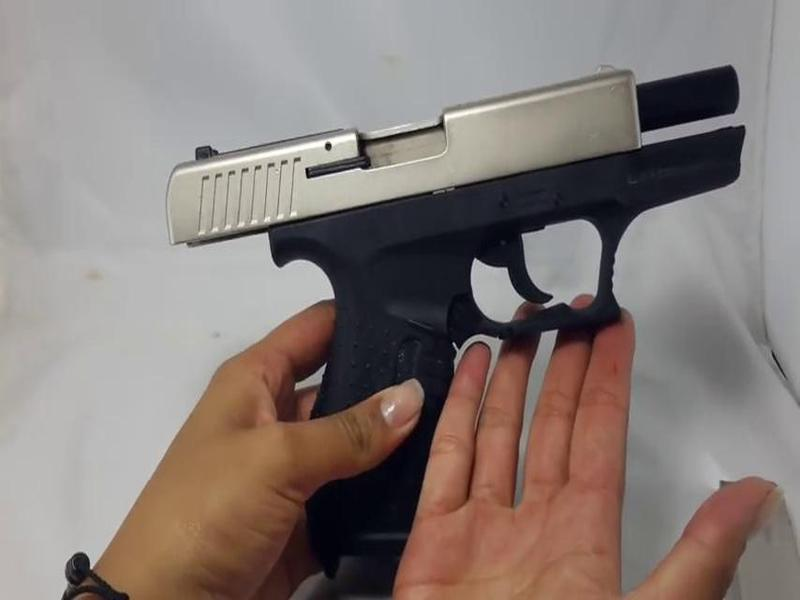Pistola: (164, 56, 753, 418)
